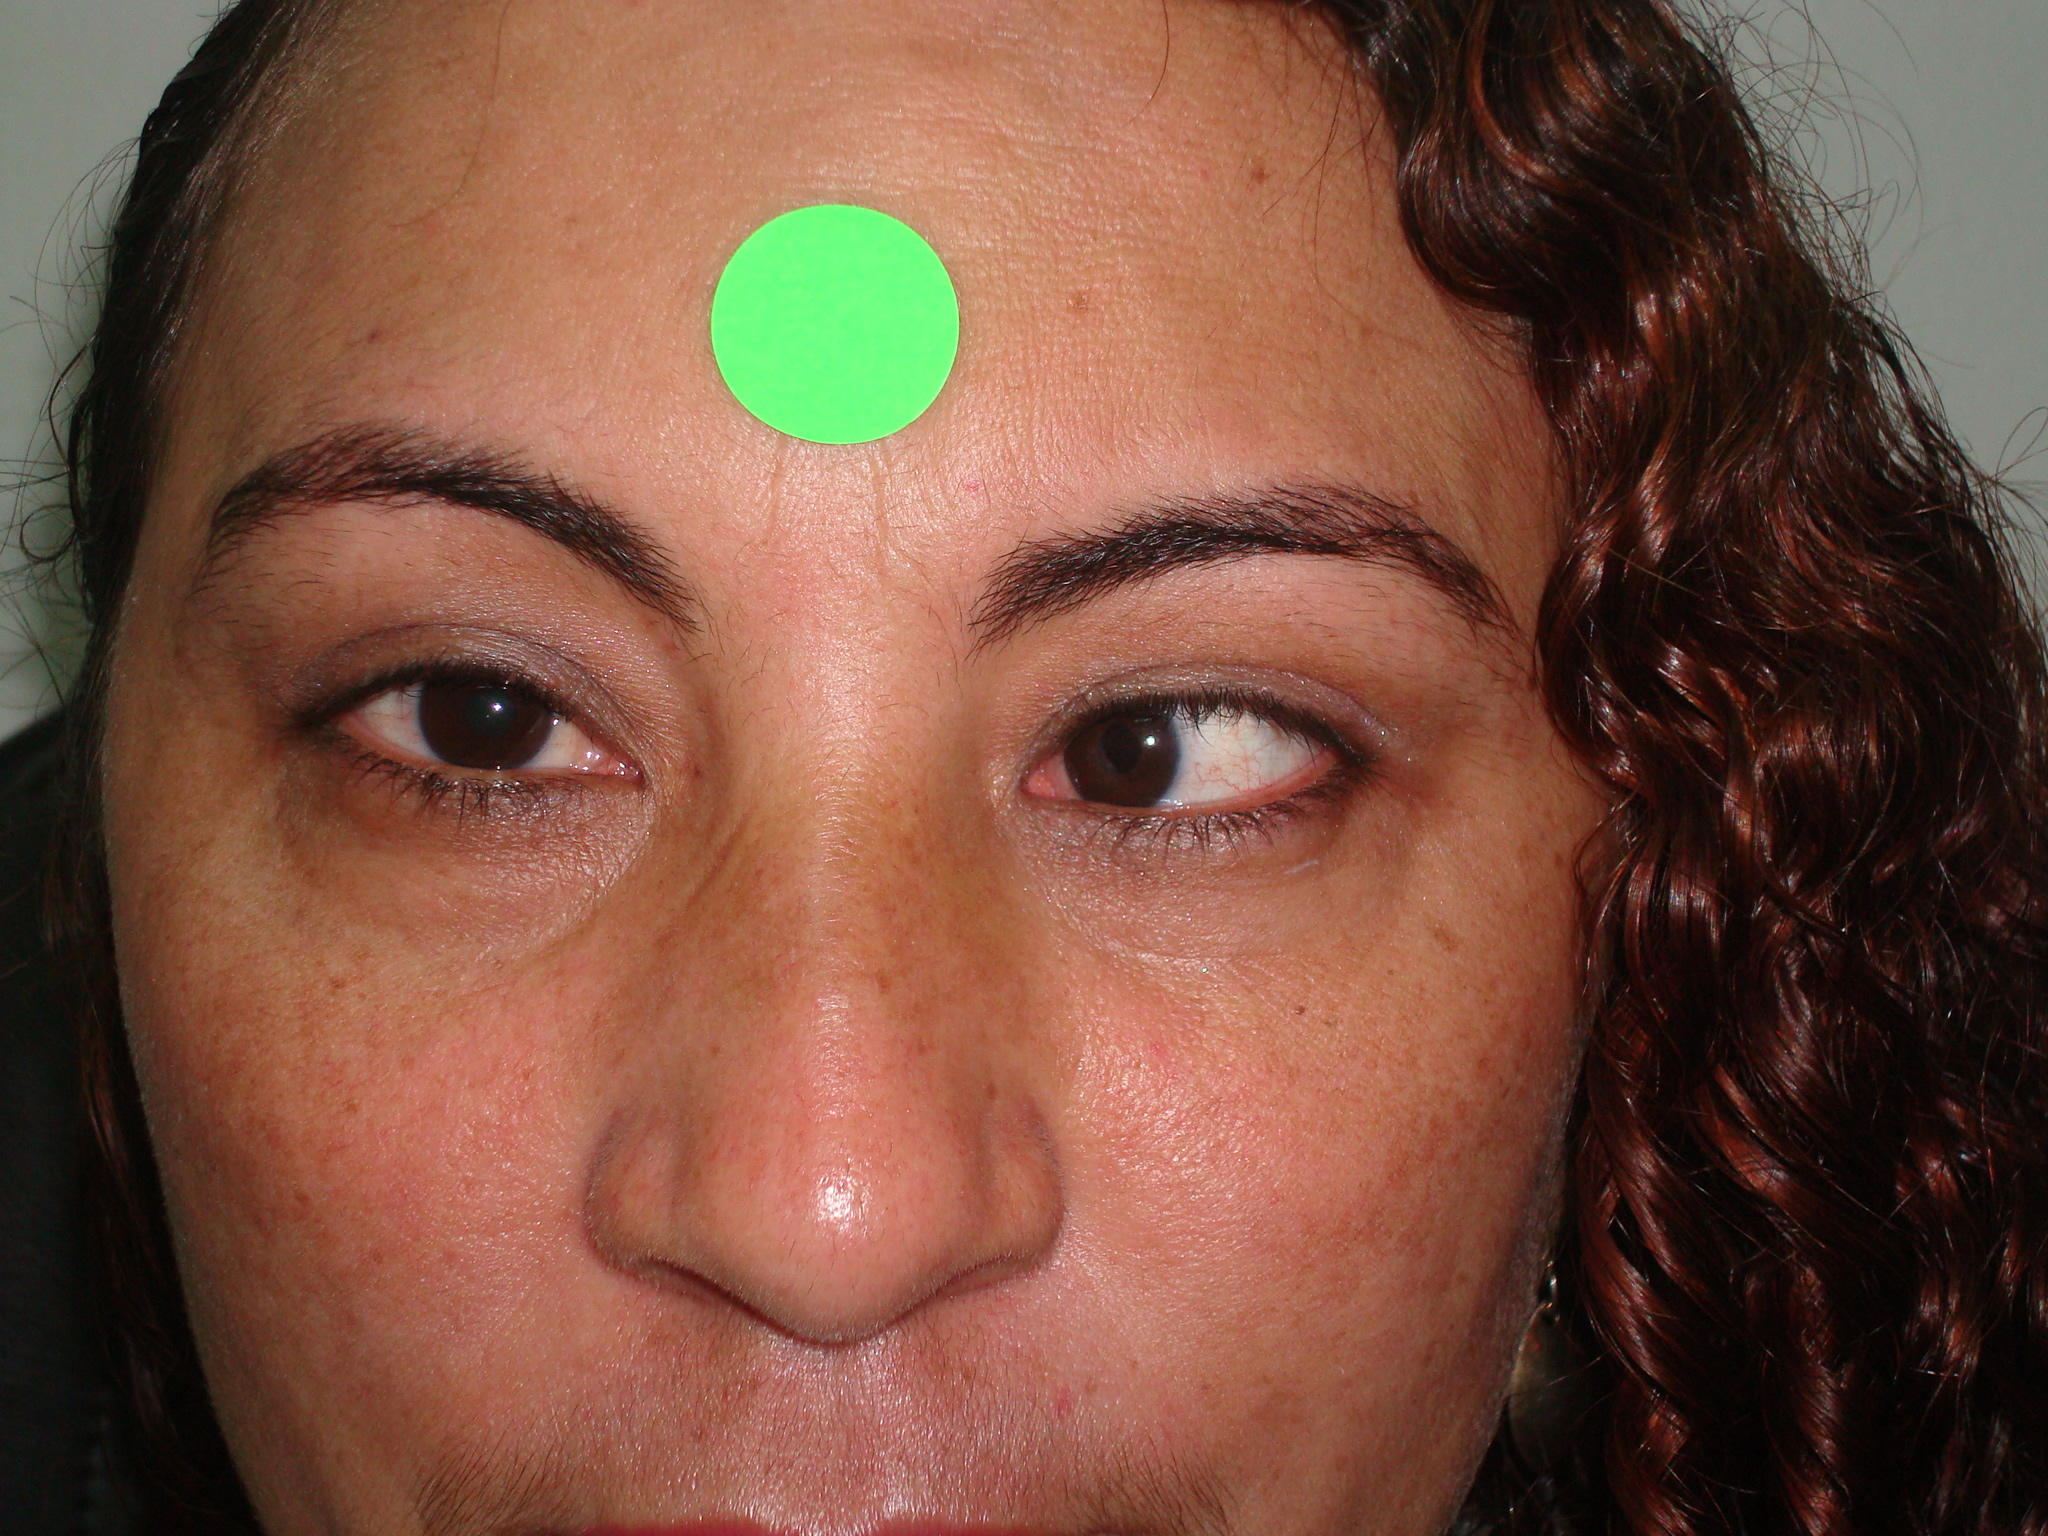flash: (1138, 731, 1163, 750), (489, 699, 506, 716)
limbo: (414, 644, 556, 779), (1063, 692, 1176, 805)
